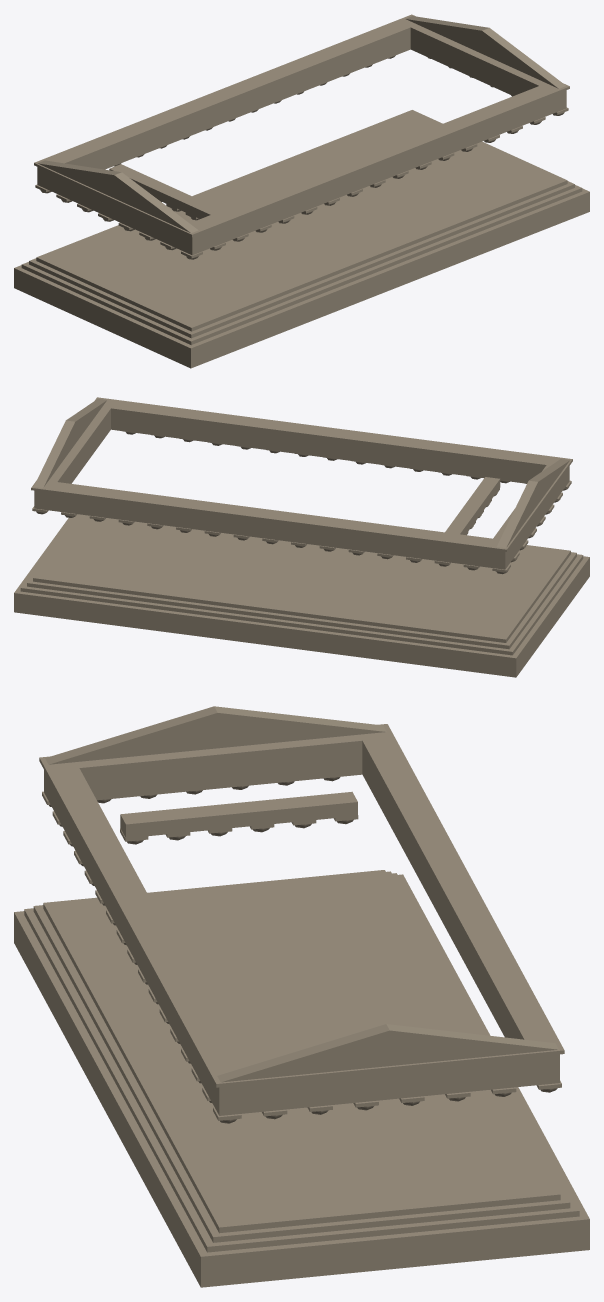
The model's file is parthenon-r3-lod2.glb.
3 renders of one model, top to bottom at view 1: azimuth 30°, elevation 25°; view 2: azimuth 150°, elevation 25°; view 3: azimuth 270°, elevation 25°, orthographic. The views are drawn at different scales.
Visible parts, largest first — view 1: Pentelic marble, weathered; view 2: Pentelic marble, weathered; view 3: Pentelic marble, weathered.
Boxes of the visible parts, x1=… form: Pentelic marble, weathered: x1=14, y1=14, x2=589, y2=368; Pentelic marble, weathered: x1=14, y1=397, x2=589, y2=677; Pentelic marble, weathered: x1=14, y1=706, x2=589, y2=1287.
Bounding box in the file's own units: 79.8 × 22.19 × 50.79.
